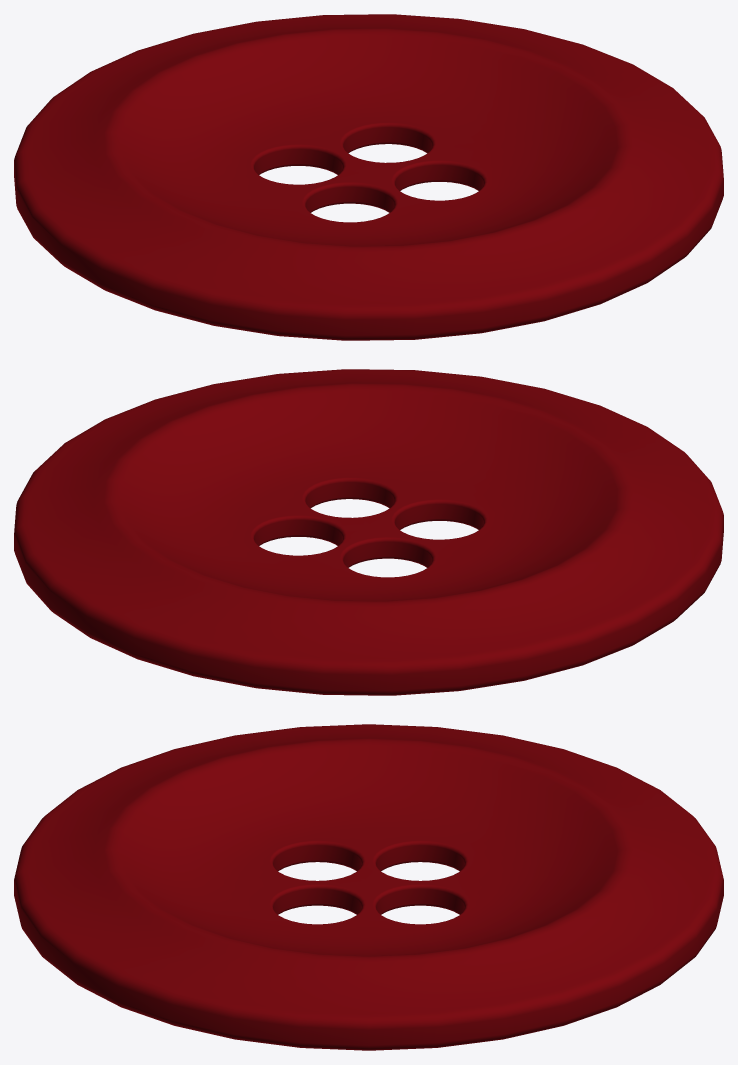
The model's file is button.glb.
The picture shows the model from 3 angles, top to bottom: view 1: azimuth 30°, elevation 25°; view 2: azimuth 150°, elevation 25°; view 3: azimuth 270°, elevation 25°; orthographic projection.
Visible parts, largest first — view 1: Cylinder; view 2: Cylinder; view 3: Cylinder.
Boxes of the visible parts, box(x1,y1,x2,y2) form: Cylinder: box(14, 14, 723, 340); Cylinder: box(14, 369, 723, 695); Cylinder: box(14, 724, 723, 1050).
Size of the model in its own units: 2 by 0.1693 by 2.
